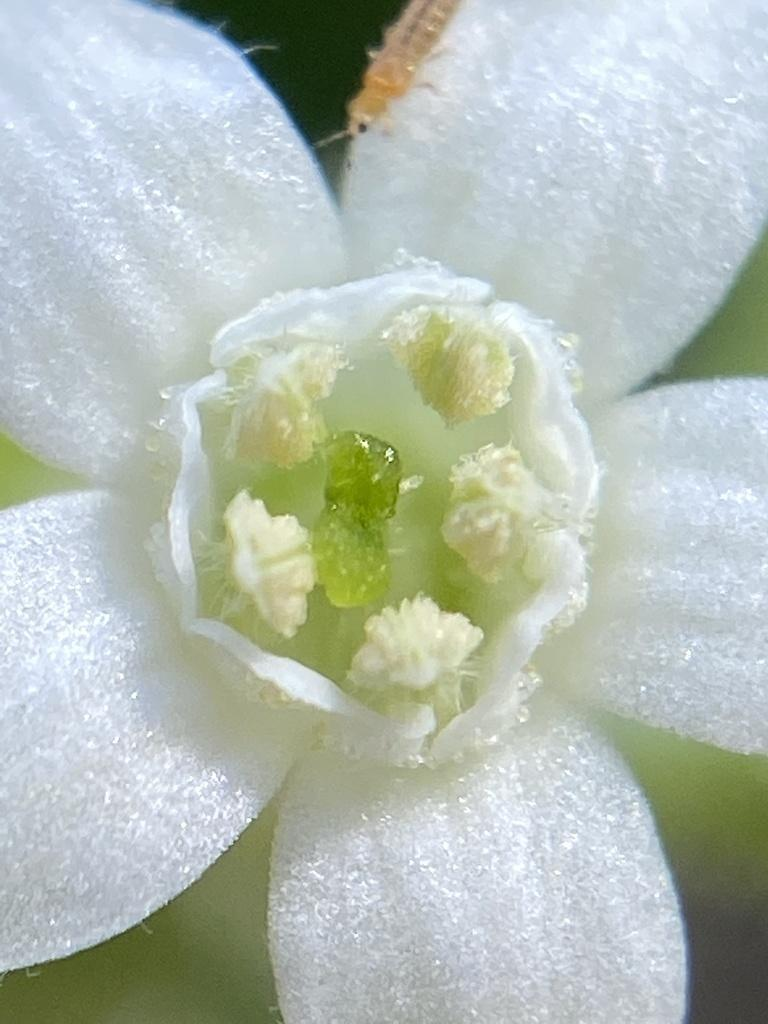tiny_pests: (279, 0, 507, 200)
